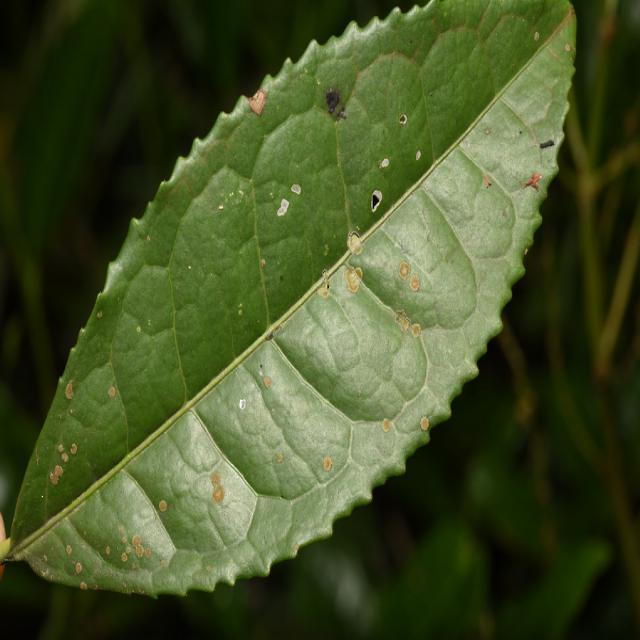Tea algae leaf spot: (129, 89, 469, 560)
